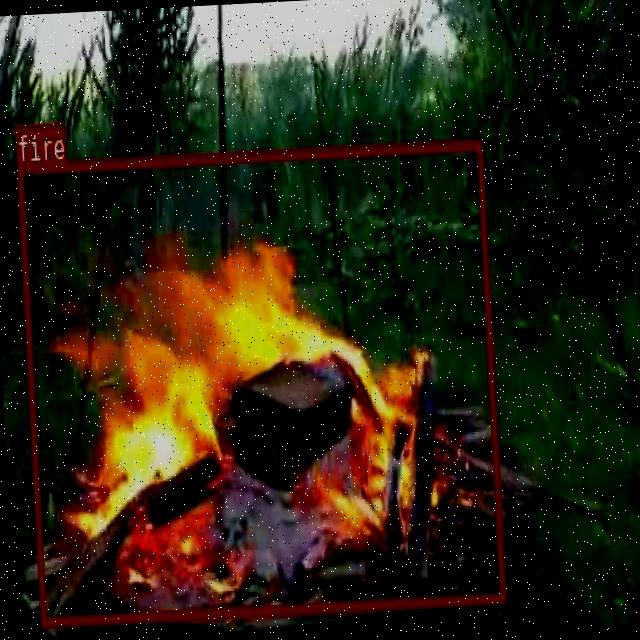fire: (16, 138, 505, 625)
